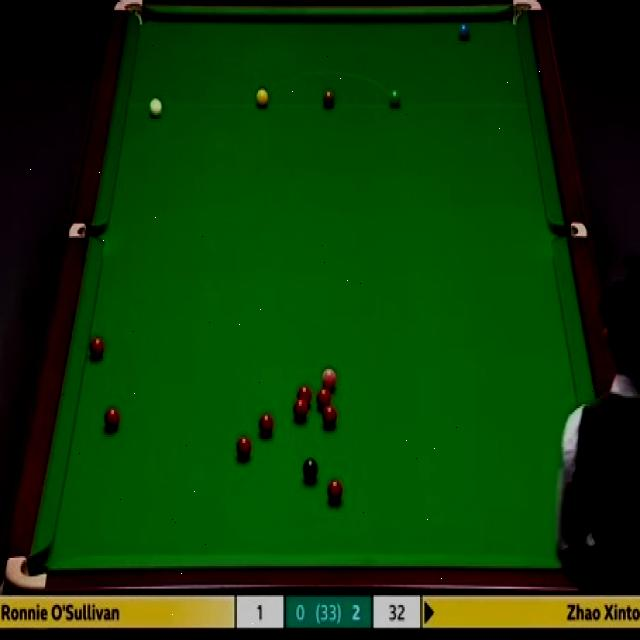black-ball: (302, 457, 320, 482)
blue-ball: (457, 20, 470, 41)
brown-ball: (323, 88, 336, 108)
green-ball: (388, 88, 402, 110)
pink-ball: (322, 366, 338, 390)
red-ball: (292, 398, 310, 422), (104, 404, 119, 432), (317, 386, 333, 412), (322, 403, 338, 428), (235, 436, 253, 458), (257, 411, 273, 435), (90, 337, 106, 360), (296, 384, 312, 406), (328, 479, 342, 501)
white-ball: (148, 96, 164, 119)
yellow-ball: (254, 88, 270, 109)
